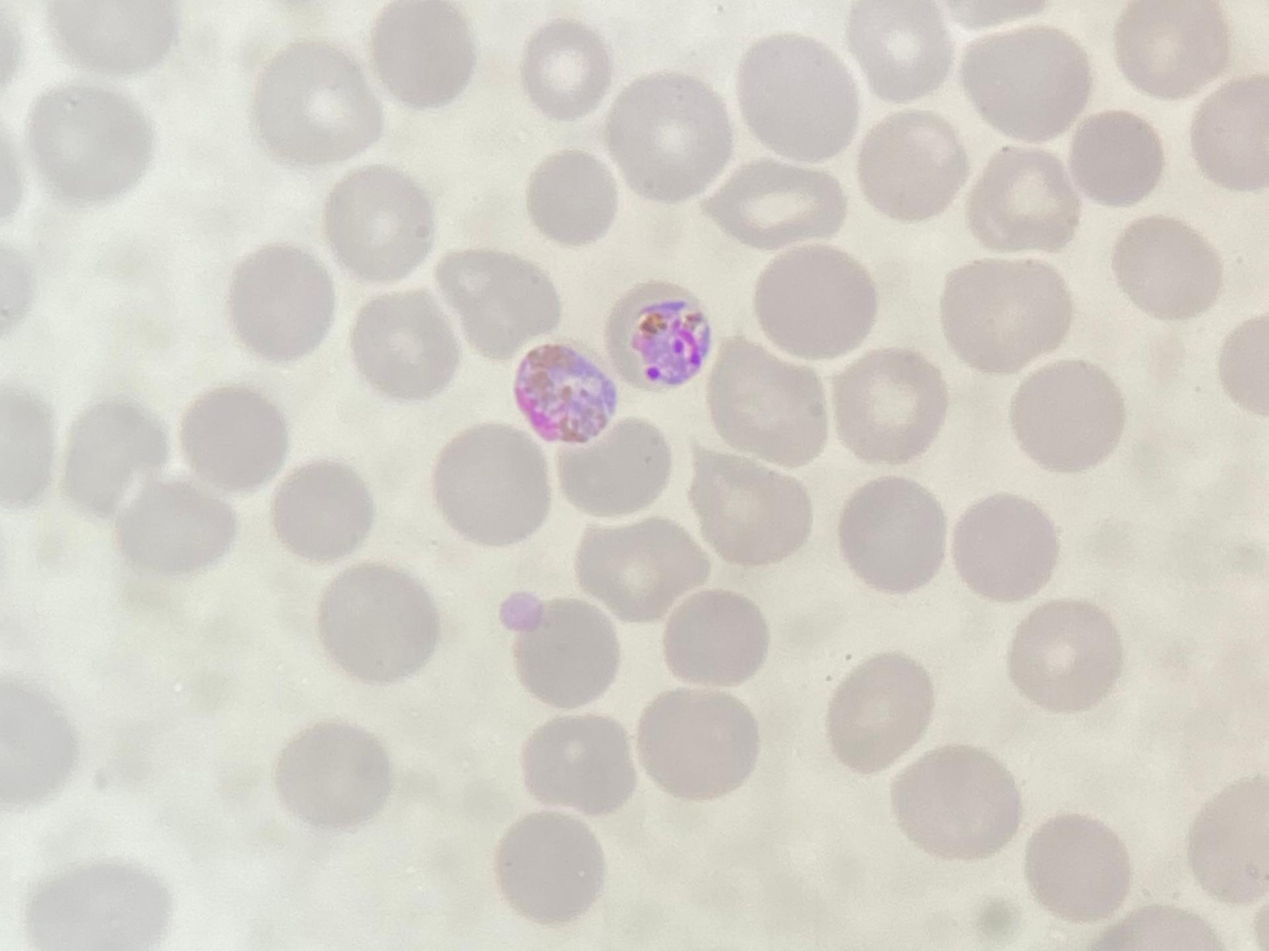Infected: (604, 280, 714, 391), (514, 342, 615, 443)
Uninfected: (733, 34, 863, 161), (603, 74, 732, 199), (824, 342, 952, 467), (251, 42, 379, 166), (939, 258, 1066, 381), (704, 338, 827, 465), (28, 83, 155, 204), (686, 445, 813, 565), (315, 564, 441, 684), (889, 745, 1018, 862), (958, 25, 1087, 140), (750, 243, 875, 360), (430, 426, 550, 546), (574, 516, 705, 624), (634, 689, 757, 802), (1007, 355, 1121, 474), (59, 395, 169, 516), (320, 165, 436, 278), (702, 159, 846, 250), (825, 654, 935, 773), (437, 248, 558, 356), (274, 721, 392, 831), (226, 243, 336, 360), (833, 477, 944, 592), (111, 477, 238, 577), (1008, 597, 1121, 709), (491, 811, 605, 922), (349, 288, 461, 399), (964, 145, 1079, 253), (35, 865, 179, 951), (176, 383, 289, 492), (855, 114, 968, 223), (509, 598, 621, 706), (518, 712, 634, 816), (557, 417, 673, 519), (950, 492, 1057, 601), (369, 2, 477, 109), (1110, 214, 1220, 319), (1023, 812, 1129, 918), (270, 458, 378, 561), (659, 588, 768, 689), (1114, 0, 1227, 96), (846, 1, 954, 100), (1185, 779, 1267, 902), (2, 677, 78, 807), (1065, 108, 1163, 207), (50, 1, 174, 77), (524, 149, 620, 245), (1190, 73, 1269, 189), (519, 19, 613, 115)
